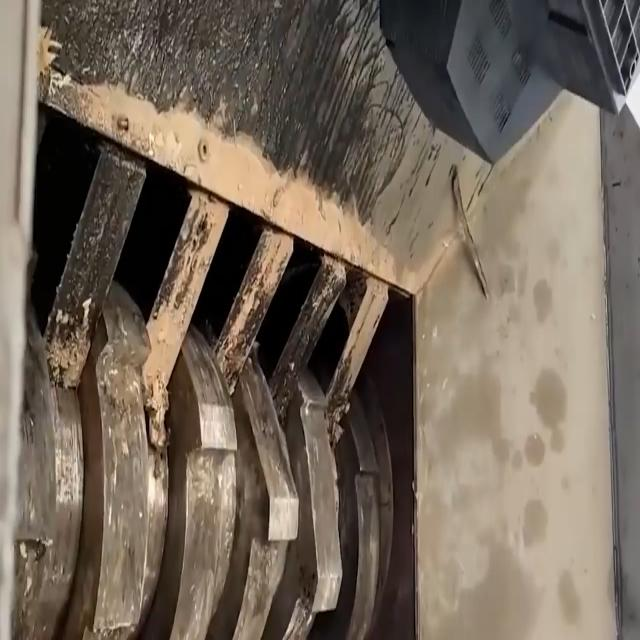Broyeur: (13, 55, 442, 640)
